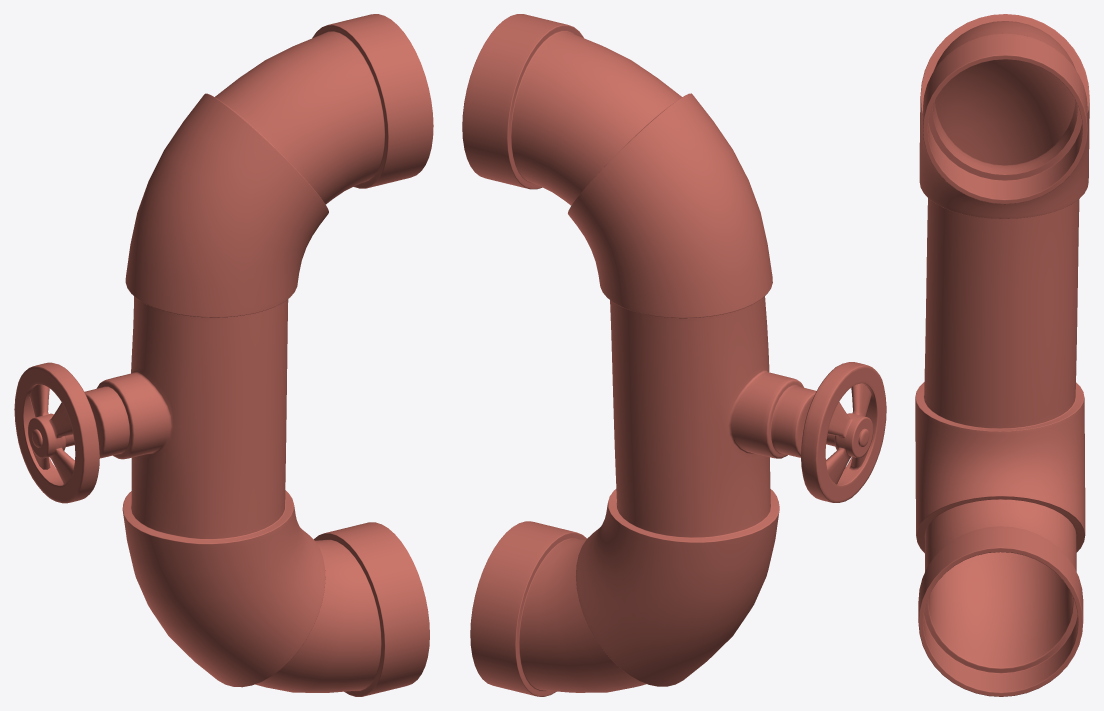
The model's file is ValvulaRoja.fbx.
3 views of the same model, side by side, from view 1: azimuth 30°, elevation 25°; view 2: azimuth 150°, elevation 25°; view 3: azimuth 270°, elevation 25° (orthographic). The views are drawn at different scales.
Parts seen in each view (by area): view 1: TuberiaPared, Manivela; view 2: TuberiaPared, Manivela; view 3: TuberiaPared.
Boxes of the visible parts, x1,y1,x2,y2 form: TuberiaPared: (65, 14, 433, 696); Manivela: (14, 362, 99, 503); TuberiaPared: (462, 14, 835, 696); Manivela: (801, 362, 886, 502); TuberiaPared: (915, 14, 1089, 696).
Size of the model in its own units: 2.64 by 4.64 by 1.14.
